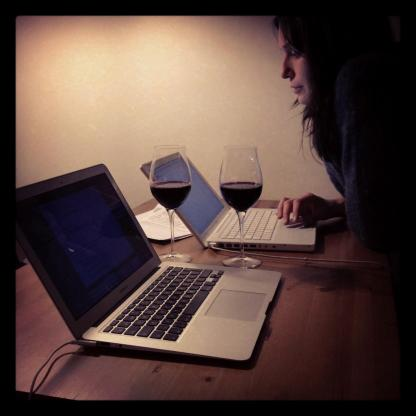board: (28, 172, 276, 377), (138, 150, 319, 248)
